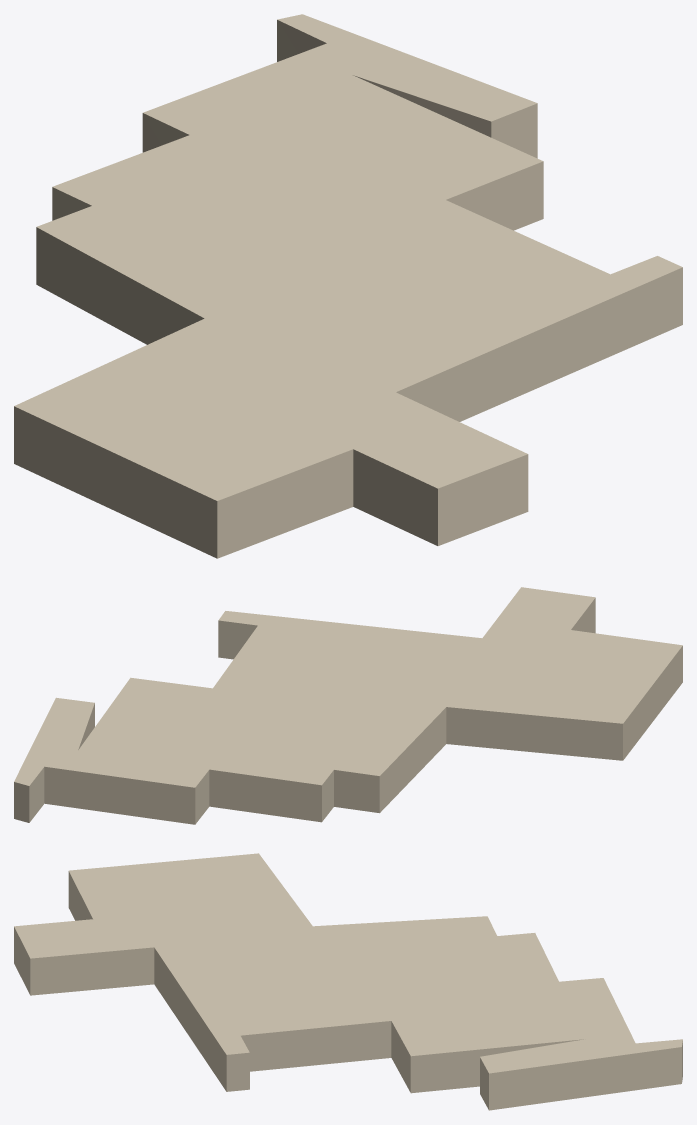
3 renders of one model, top to bottom at view 1: azimuth 30°, elevation 25°; view 2: azimuth 150°, elevation 25°; view 3: azimuth 270°, elevation 25°, orthographic. The views are drawn at different scales.
Size of the model in its own units: 123 by 9.66 by 157.
